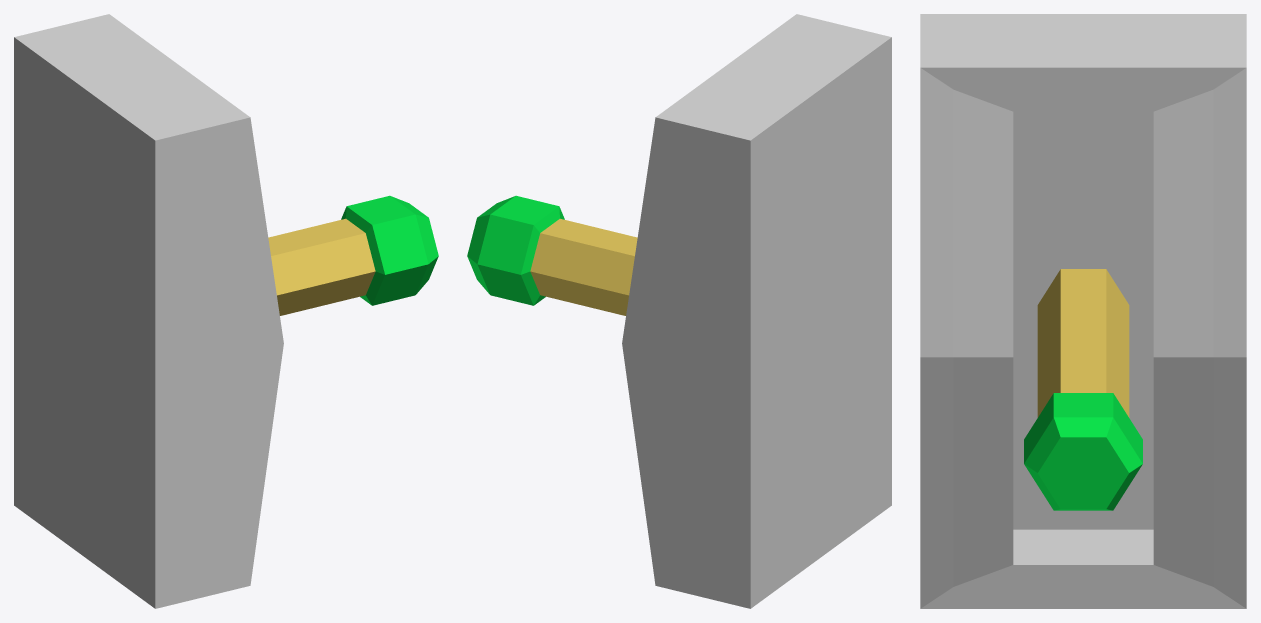
The model's file is DungeonLever.fbx.
3 views of the same model, side by side, from view 1: azimuth 30°, elevation 25°; view 2: azimuth 150°, elevation 25°; view 3: azimuth 270°, elevation 25° (orthographic). The views are drawn at different scales.
Parts seen in each view (by area): view 1: Cube, Cylinder.001; view 2: Cube, Cylinder.001; view 3: Cube, Cylinder.001.
Part boxes in pixels (x1,y1,x2,y2): Cube: (14,14,283,608); Cylinder.001: (268,195,438,315); Cube: (622,14,891,608); Cylinder.001: (467,195,637,315); Cube: (920,14,1246,608); Cylinder.001: (1024,269,1142,510).
Bounding box in the file's own units: 54.07 × 72.39 × 39.58.
